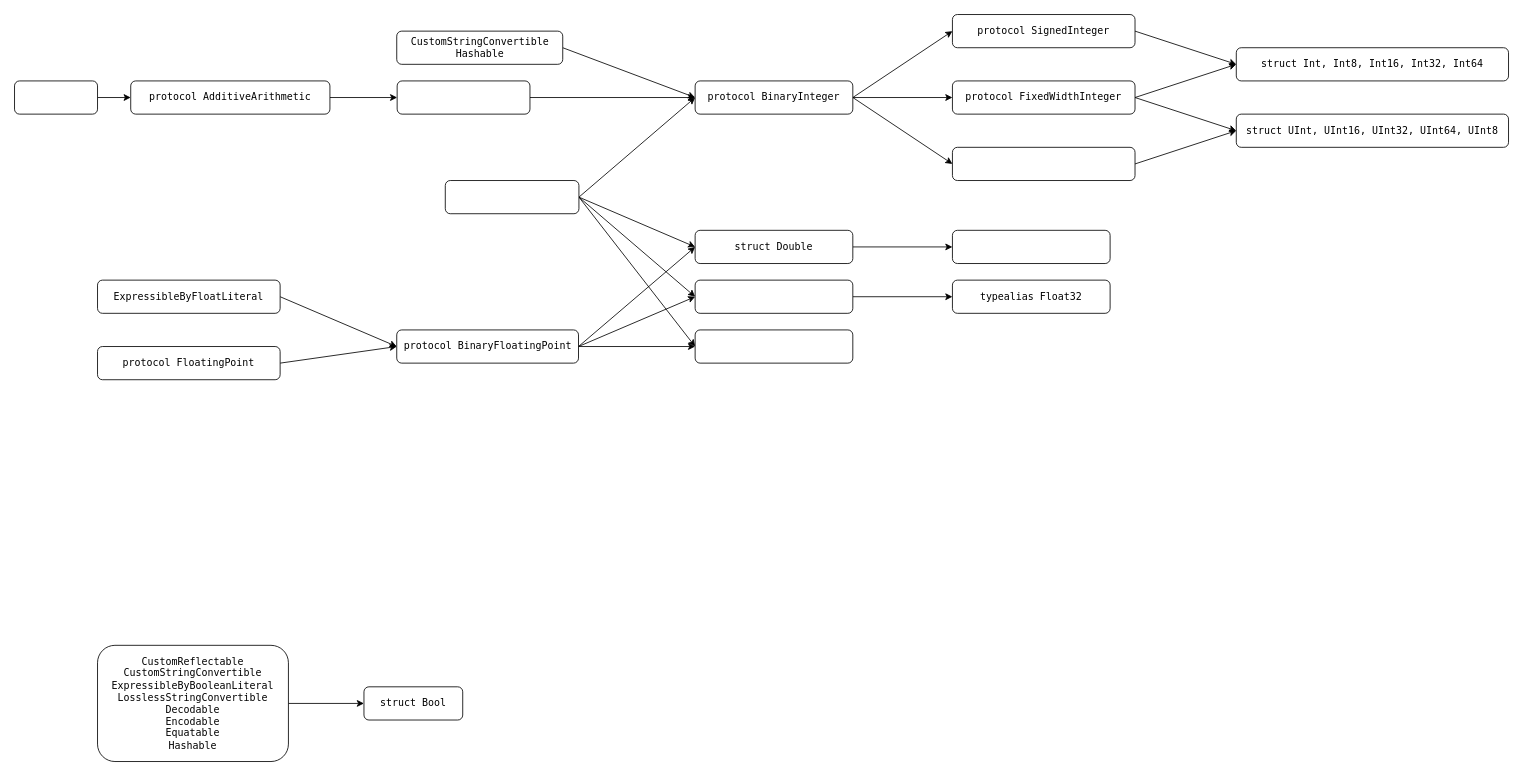
This 1523x776 diagram has some shape labels left out. The centre of each missing label's shape, as x and y in pixels:
"Equatable" belongs at [56,97].
"protocol Numeric" belongs at [463,97].
"protocol Strideable" belongs at [511,197].
"protocol UnsignedInteger" belongs at [1043,163].
"struct Float" belongs at [773,296].
"struct Float80" belongs at [773,346].
"typealias Float64" belongs at [1031,246].
